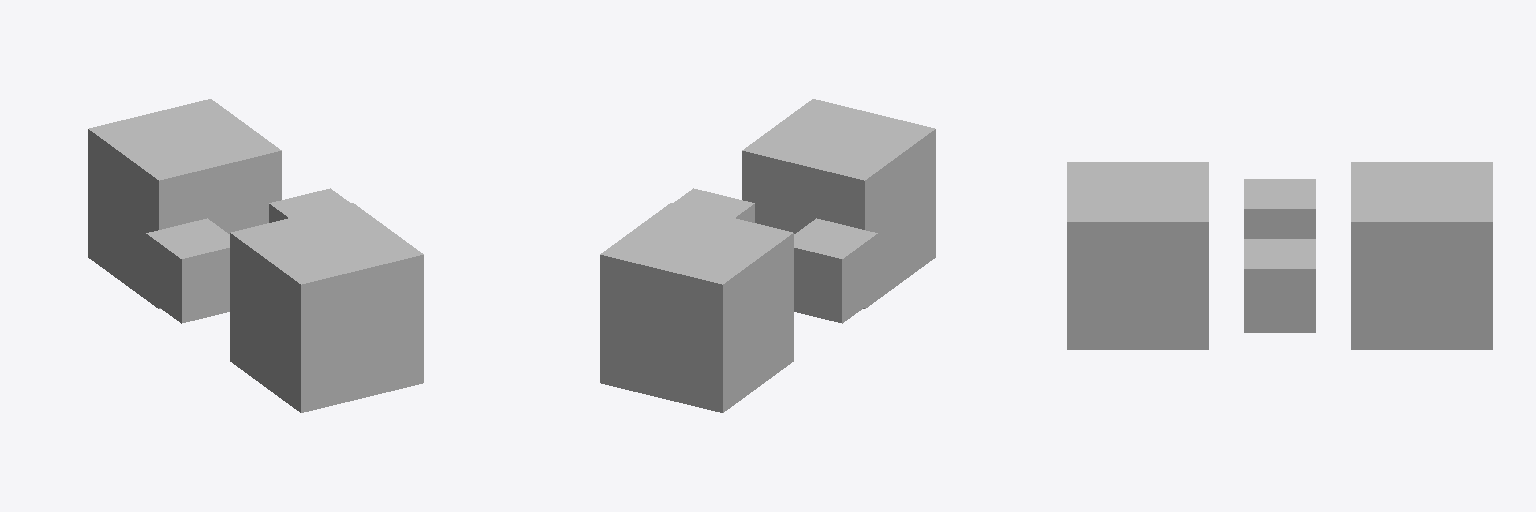
File: cubetest.obj
The picture shows the model from 3 angles: view 1: azimuth 30°, elevation 25°; view 2: azimuth 150°, elevation 25°; view 3: azimuth 270°, elevation 25°; orthographic projection.
Parts seen in each view (by area): view 1: Cube.003, Cube.004, Cube.002, Cube.001; view 2: Cube.004, Cube.003, Cube.002, Cube.001; view 3: Cube.003, Cube.004, Cube.001, Cube.002.
Part boxes in pixels (left/top/right/bottom): Cube.003: left=230, top=203, right=423, bottom=412; Cube.004: left=88, top=99, right=281, bottom=308; Cube.002: left=146, top=218, right=229, bottom=323; Cube.001: left=269, top=188, right=349, bottom=222; Cube.004: left=600, top=203, right=793, bottom=412; Cube.003: left=742, top=99, right=935, bottom=308; Cube.002: left=794, top=218, right=877, bottom=323; Cube.001: left=674, top=188, right=754, bottom=222; Cube.003: left=1067, top=162, right=1208, bottom=349; Cube.004: left=1351, top=162, right=1492, bottom=349; Cube.001: left=1244, top=239, right=1315, bottom=332; Cube.002: left=1244, top=179, right=1315, bottom=238.
Size of the model in its own units: 3000 by 2000 by 6000.